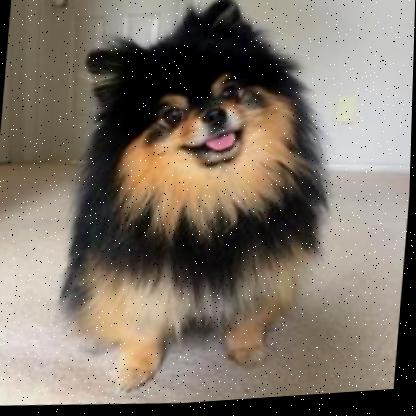dog: (49, 0, 349, 408)
